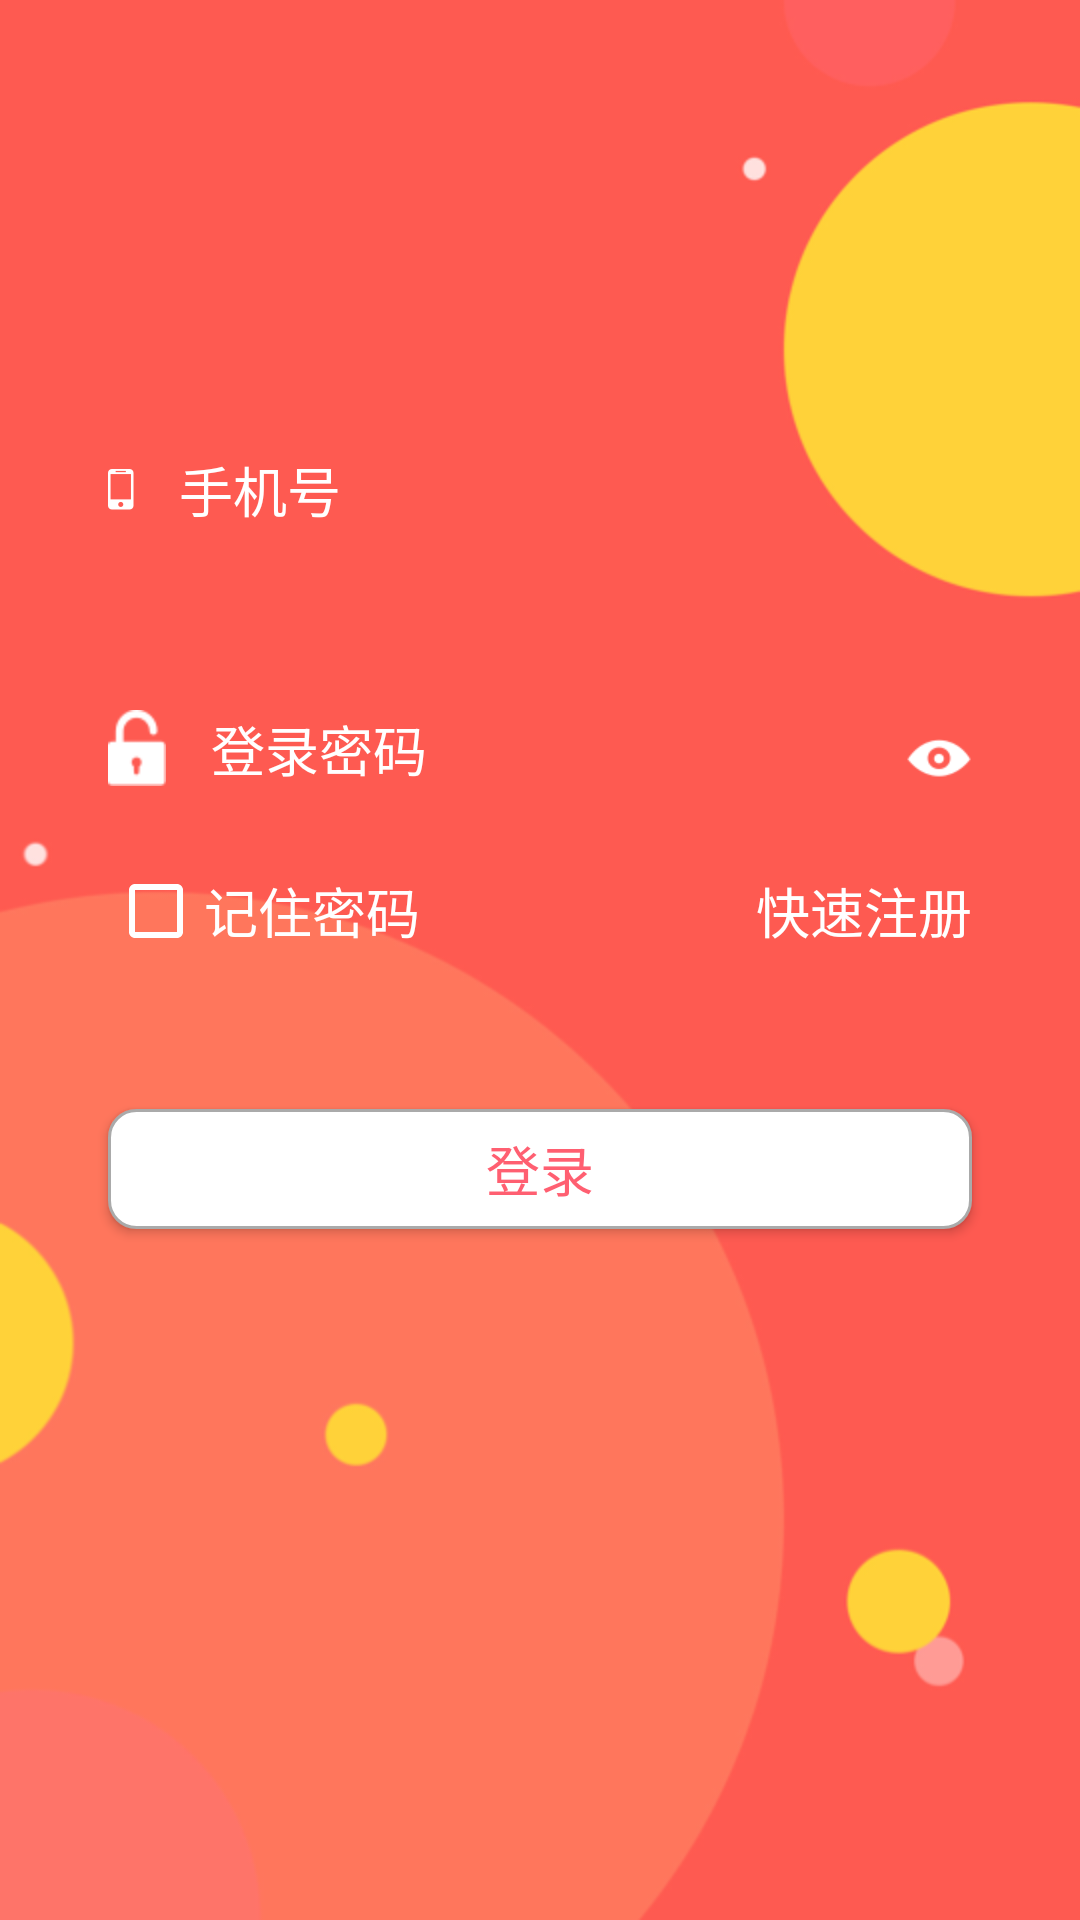

Point at icon controls on the screen. Image size 1080 × 1920, points as (x=x, y=y).
login eye: (x=939, y=758)
